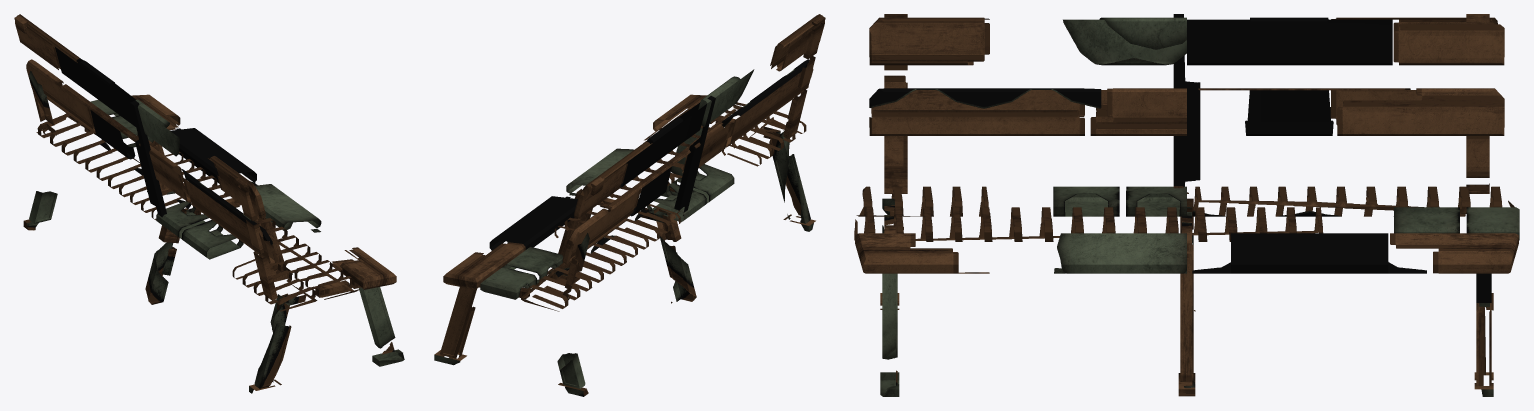
Rendered from Banc.fbx.
3 views of the same model, side by side, from view 1: azimuth 30°, elevation 25°; view 2: azimuth 150°, elevation 25°; view 3: azimuth 270°, elevation 25° (orthographic). The views are drawn at different scales.
Parts seen in each view (by area): view 1: Banc; view 2: Banc; view 3: Banc.
Part boxes in pixels (x1=…): Banc: x1=14, y1=14, x2=404, y2=393; Banc: x1=434, y1=14, x2=825, y2=396; Banc: x1=854, y1=14, x2=1519, y2=396.
Size of the model in its own units: 85.54 by 109 by 233.
